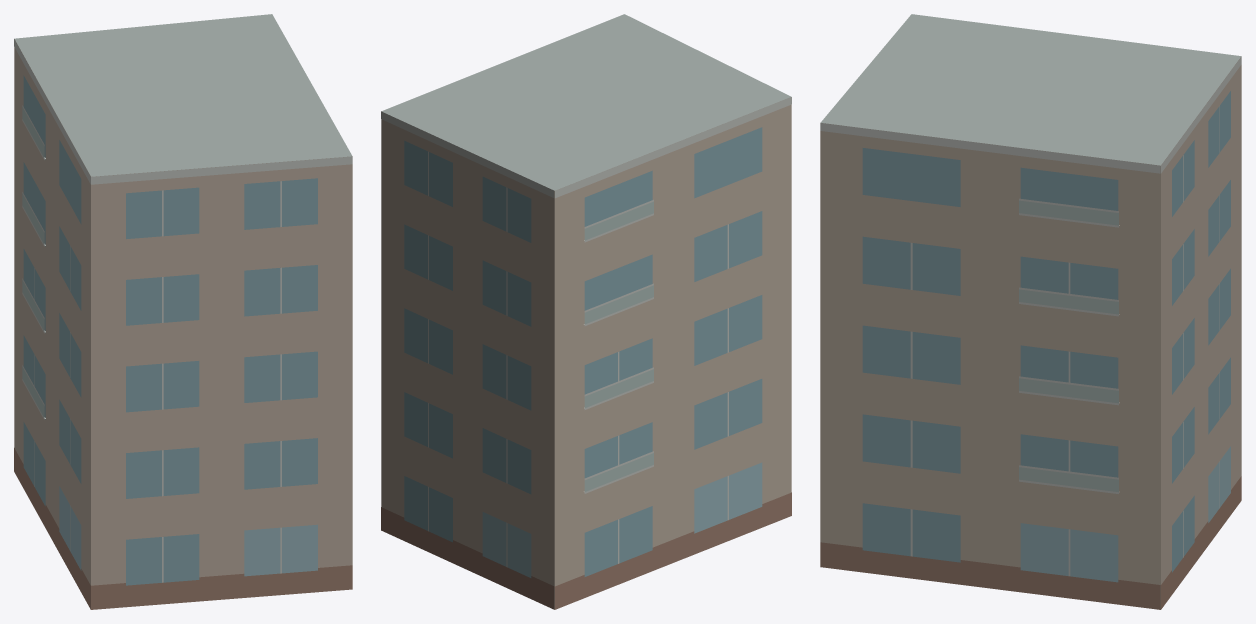
Rendered from survey-upis-32942676.glb.
3 renders of one model, left to right at view 1: azimuth 30°, elevation 25°; view 2: azimuth 150°, elevation 25°; view 3: azimuth 270°, elevation 25°, orthographic. The views are drawn at different scales.
Visible parts, largest first — view 1: survey-upis-32942676.tmp; view 2: survey-upis-32942676.tmp; view 3: survey-upis-32942676.tmp.
Part boxes in pixels (x1,y1,x2,y2): survey-upis-32942676.tmp: (14,14,352,609); survey-upis-32942676.tmp: (381,14,791,609); survey-upis-32942676.tmp: (820,14,1241,609).
Bounding box in the file's own units: 9.74 × 13.3 × 11.44.
